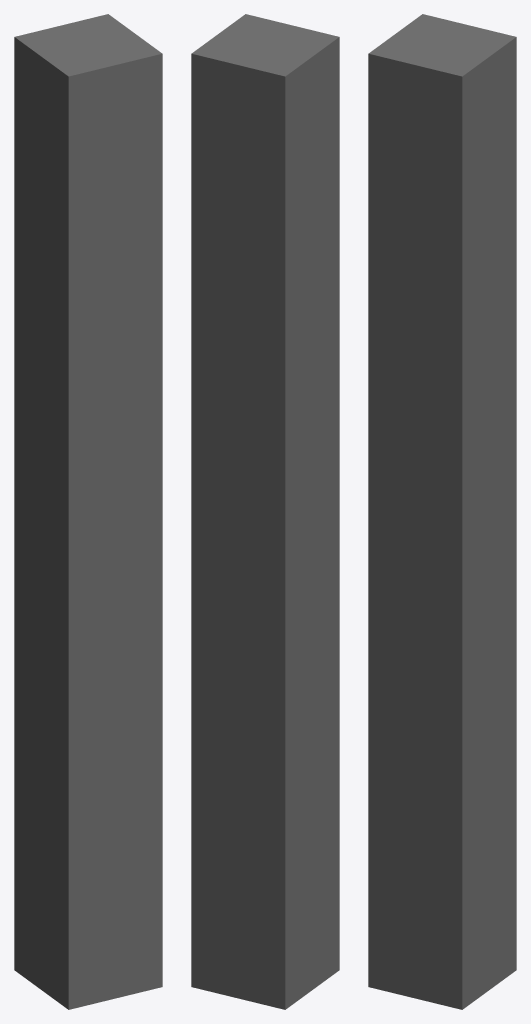
The model's file is ColumnBroken.fbx.
3 renders of one model, left to right at view 1: azimuth 30°, elevation 25°; view 2: azimuth 150°, elevation 25°; view 3: azimuth 330°, elevation 25°, orthographic.
Parts seen in each view (by area): view 1: ColumnBroken.002, ColumnBroken.001, ColumnBroken.003; view 2: ColumnBroken.002, ColumnBroken.001, ColumnBroken.003; view 3: ColumnBroken.002, ColumnBroken.001, ColumnBroken.003.
Part boxes in pixels (x1=…): ColumnBroken.002: x1=14, y1=315, x2=162, y2=782; ColumnBroken.001: x1=14, y1=14, x2=162, y2=336; ColumnBroken.003: x1=14, y1=701, x2=162, y2=1009; ColumnBroken.002: x1=191, y1=297, x2=339, y2=742; ColumnBroken.001: x1=191, y1=14, x2=339, y2=363; ColumnBroken.003: x1=191, y1=722, x2=339, y2=1009; ColumnBroken.002: x1=368, y1=313, x2=516, y2=786; ColumnBroken.001: x1=368, y1=14, x2=516, y2=337; ColumnBroken.003: x1=368, y1=705, x2=516, y2=1009.
Size of the model in its own units: 30 by 285 by 30.
